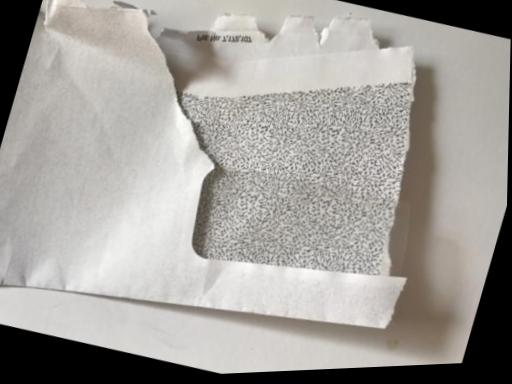paper: (0, 0, 441, 383)
